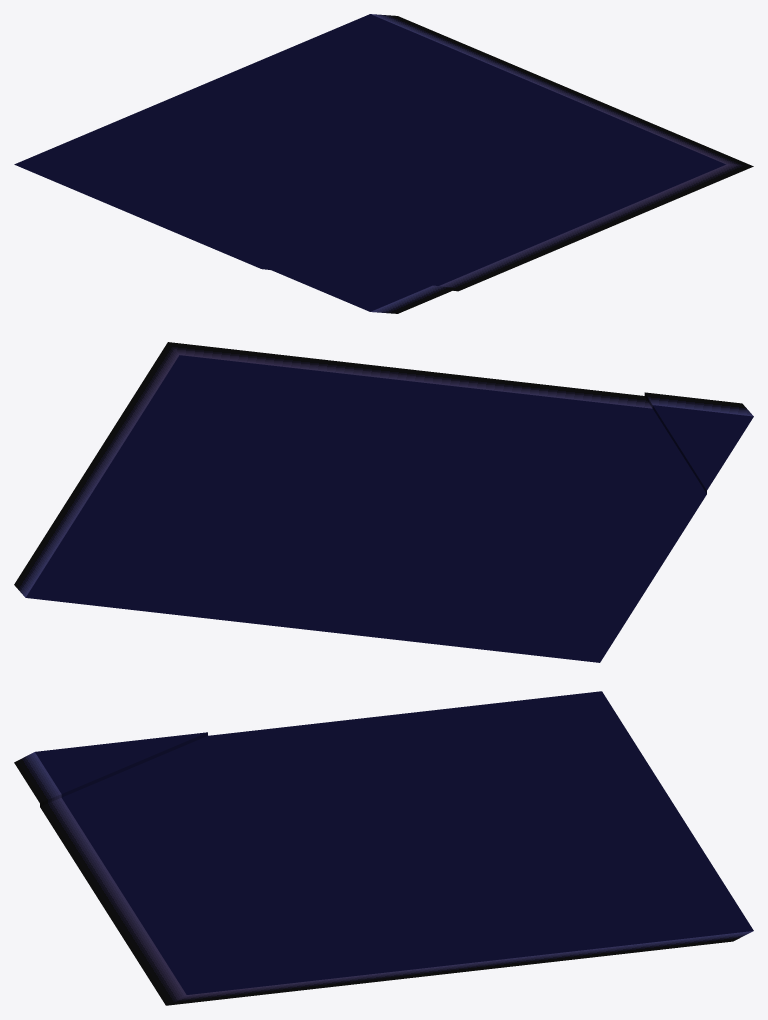
The picture shows the model from 3 angles, top to bottom: view 1: azimuth 30°, elevation 25°; view 2: azimuth 150°, elevation 25°; view 3: azimuth 270°, elevation 25°; orthographic projection. The views are drawn at different scales.
Parts seen in each view (by area): view 1: Joint_0_Object_0; view 2: Joint_0_Object_0; view 3: Joint_0_Object_0.
Part boxes in pixels (x1=…): Joint_0_Object_0: x1=14, y1=14, x2=753, y2=313; Joint_0_Object_0: x1=14, y1=342, x2=753, y2=662; Joint_0_Object_0: x1=14, y1=691, x2=753, y2=1005.
Size of the model in its own units: 761 by 4 by 756.
1 material, 1 textured.
